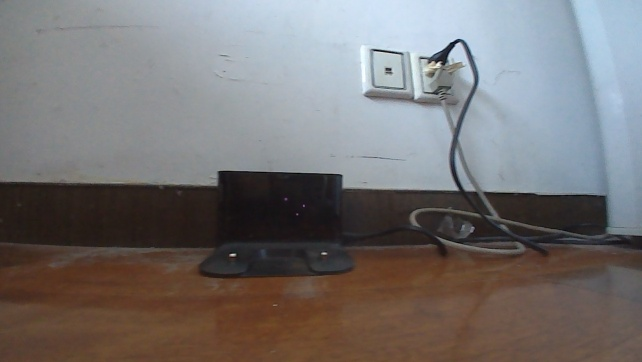charger: (194, 168, 355, 280)
wire: (341, 37, 633, 258)
